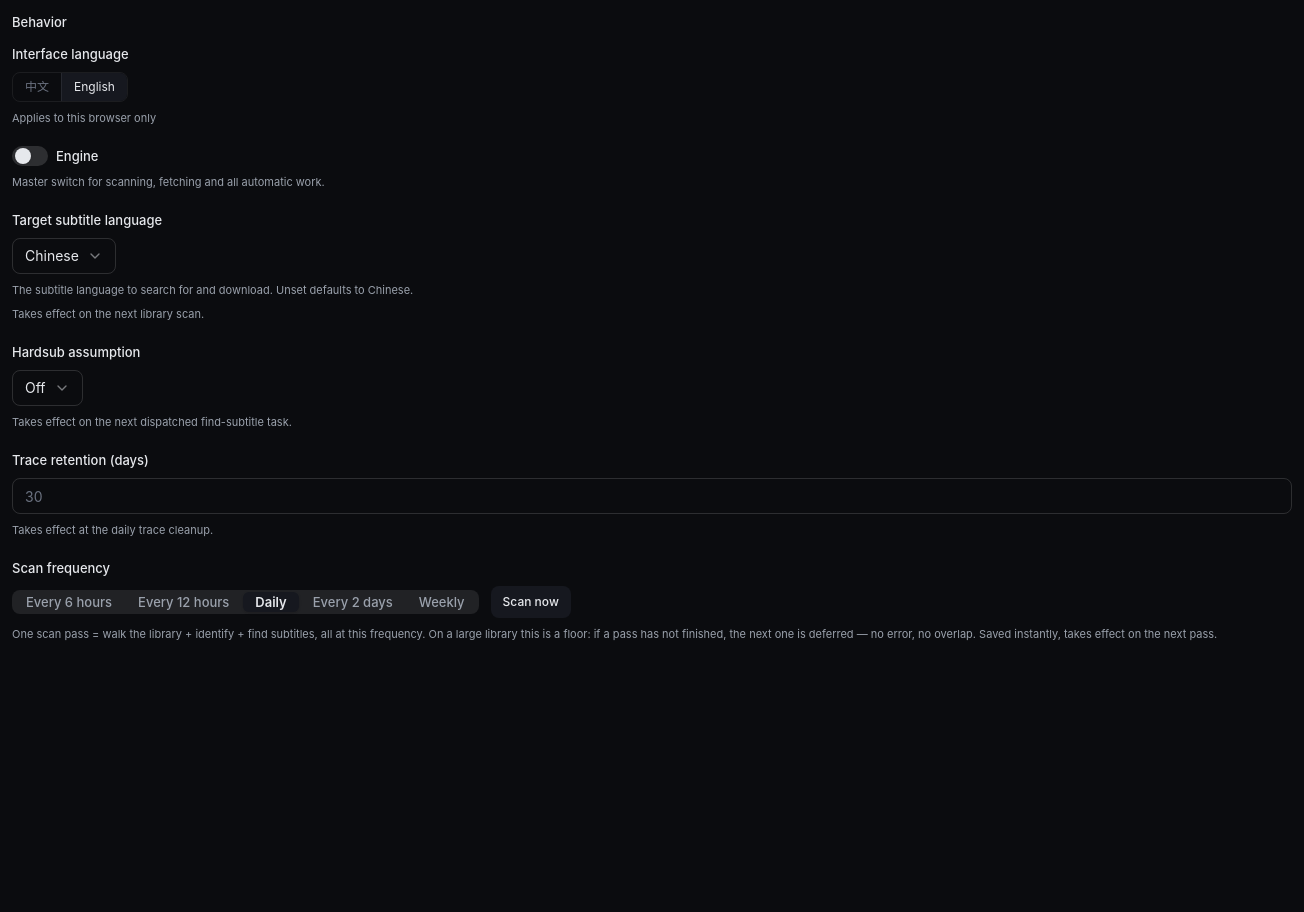
Scenario: BehaviorSection：迁移锁 › Selector 换成 Radix Select 后 option 语义照旧（关闭不可及、pointerdown 可开）
This screenshot has width=1304, height=912.
Step 1. Press the mouse on the dropdown named "Hardsub assumption" → (47, 388), box [12,370,82,406]
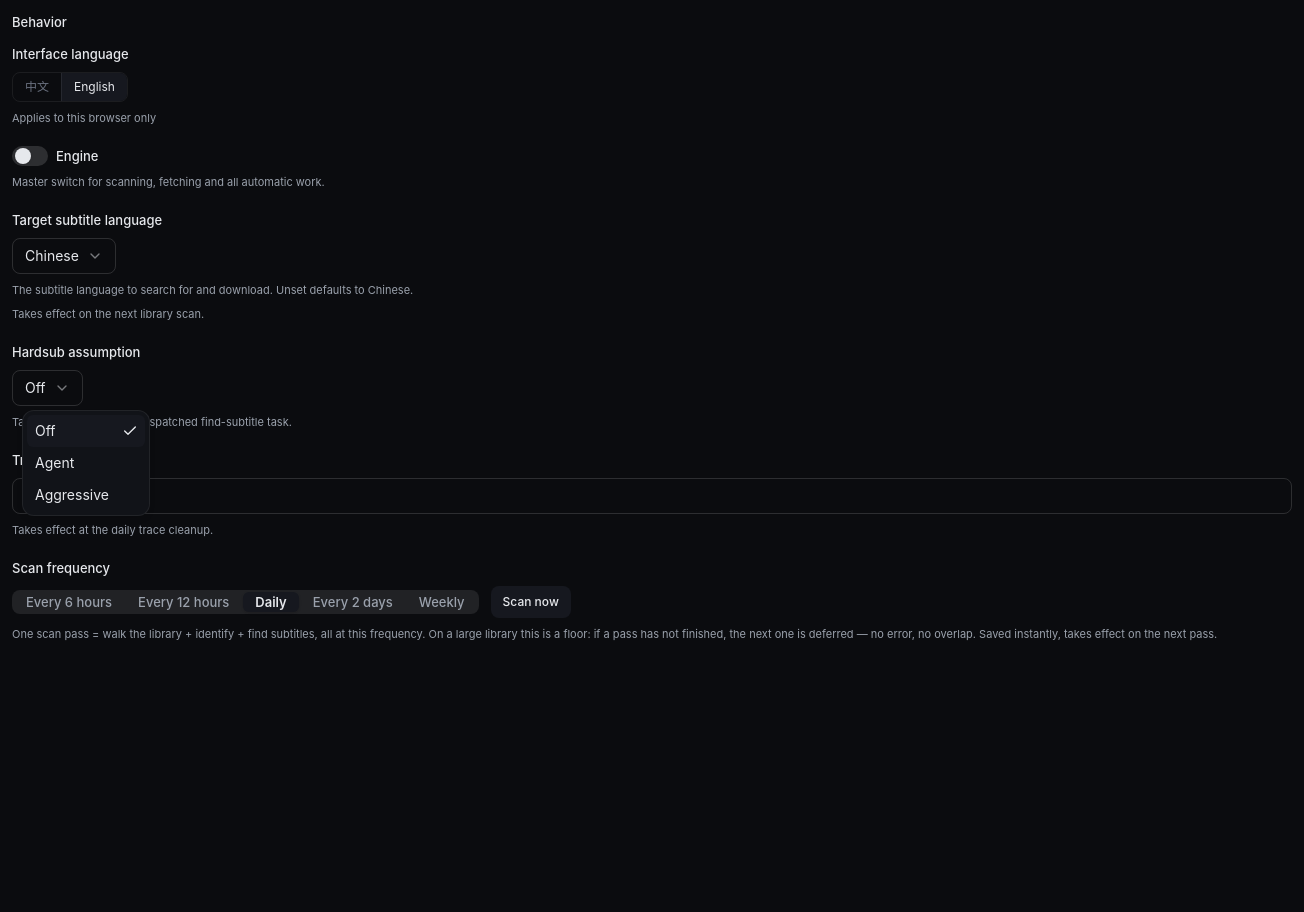
Expected: the option "Off" is shown, [27,415,145,447]
